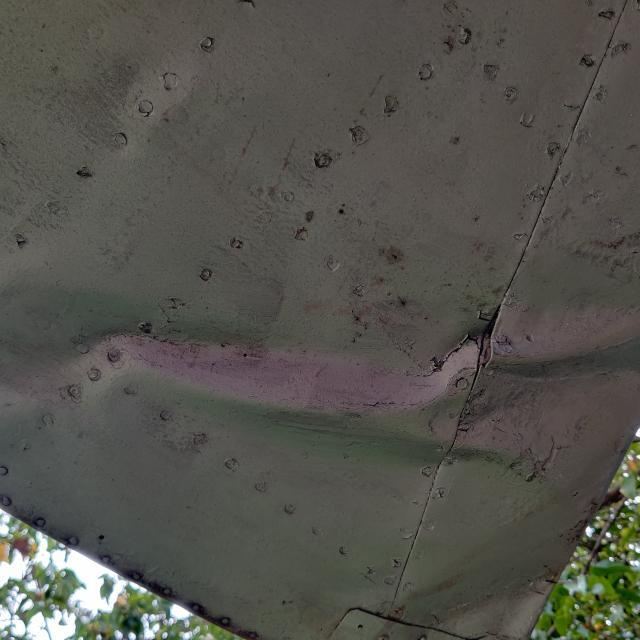crack: (423, 325, 487, 378)
dent: (2, 258, 640, 495)
